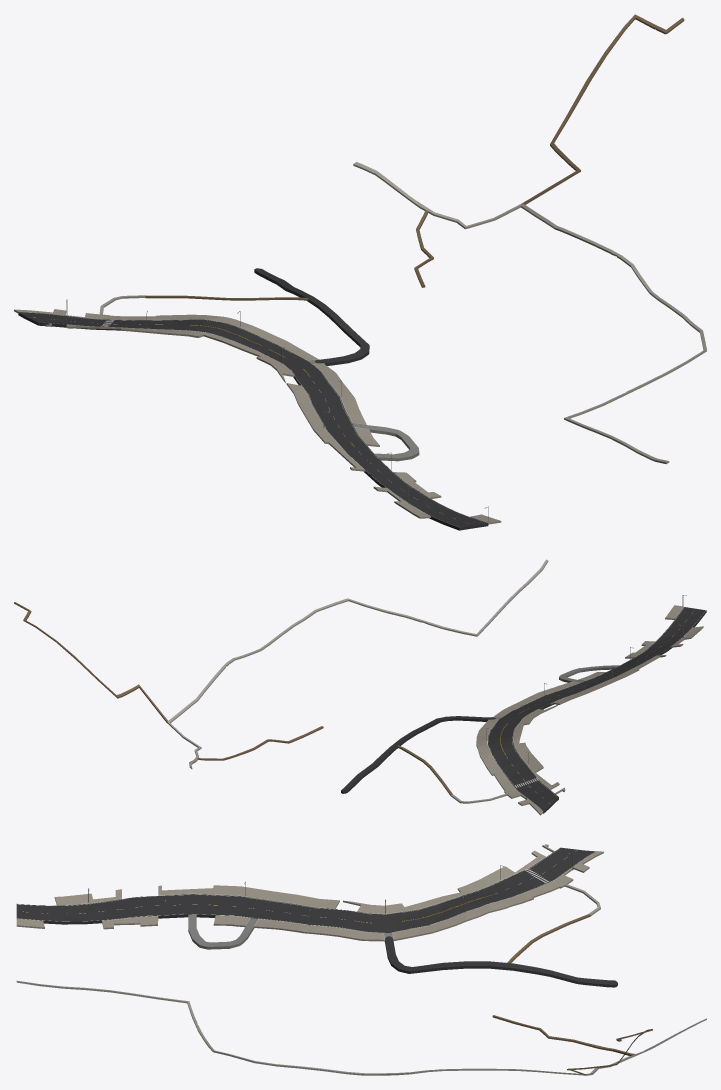
Rendered from 17-109443-59466.b2fdf248.glb.
The picture shows the model from 3 angles, top to bottom: view 1: azimuth 30°, elevation 25°; view 2: azimuth 150°, elevation 25°; view 3: azimuth 270°, elevation 25°; orthographic projection. The views are drawn at different scales.
Size of the model in its own units: 293 by 61.19 by 293.
